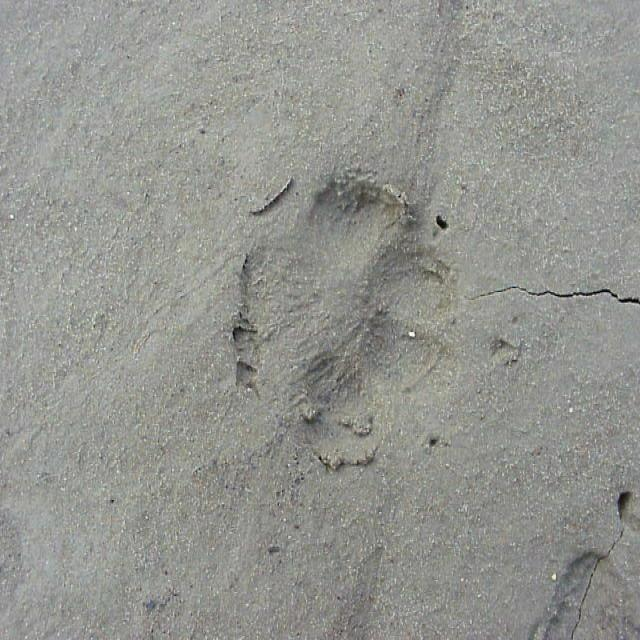canid: (237, 169, 460, 452)
